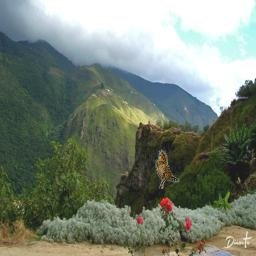Sparrow: (155, 149, 180, 189)
